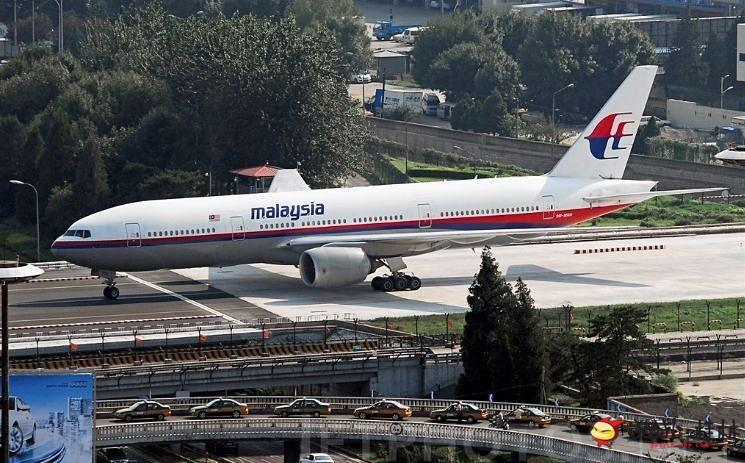airplane: (44, 63, 695, 308)
